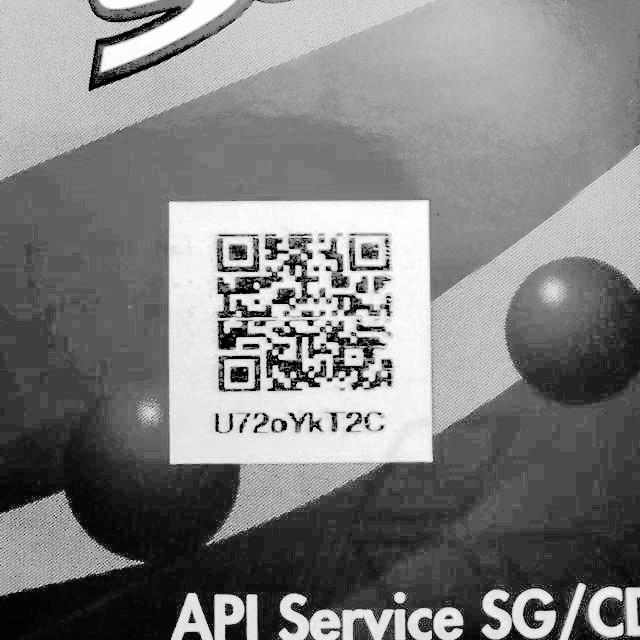qr_code: (205, 225, 405, 396)
